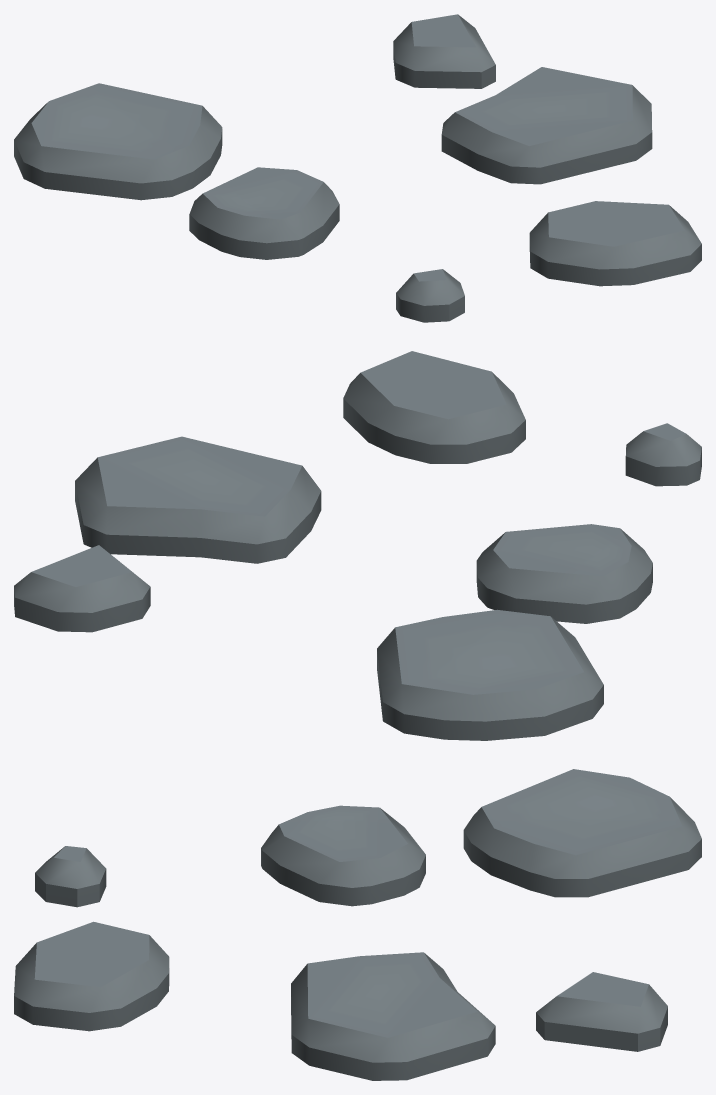
The model's file is kaykit-halloween-bits-path-d.glb.
3 views of the same model, one above another, from view 1: azimuth 30°, elevation 25°; view 2: azimuth 150°, elevation 25°; view 3: azimuth 270°, elevation 25° (orthographic). The views are drawn at different scales.
Visible parts, largest first — view 1: path_D; view 2: path_D; view 3: path_D.
Boxes of the visible parts, x1,y1,x2,y2 form: path_D: (14,14,701,322); path_D: (14,351,701,740); path_D: (14,769,701,1080).
Size of the model in its own units: 1.66 by 0.1 by 1.71.
Materials: 1 (1 with a texture image).
